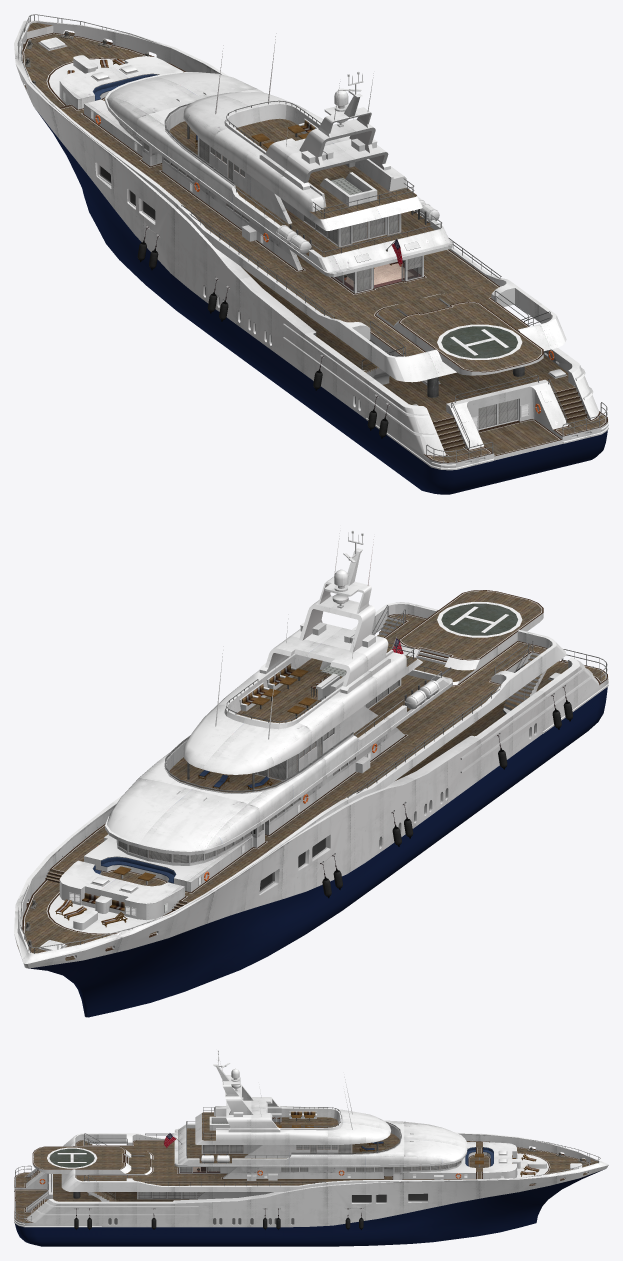
Rendered from yacht.glb.
3 views of the same model, one above another, from view 1: azimuth 30°, elevation 25°; view 2: azimuth 150°, elevation 25°; view 3: azimuth 270°, elevation 25° (orthographic). The views are drawn at different scales.
Visible parts, largest first — view 1: e2_cj_big_boat_1; view 2: e2_cj_big_boat_1; view 3: e2_cj_big_boat_1.
Part boxes in pixels (x1,y1,x2,y2): e2_cj_big_boat_1: (14,14,608,494); e2_cj_big_boat_1: (14,530,608,1017); e2_cj_big_boat_1: (14,1050,608,1246).
Bounding box in the file's own units: 0.4383 × 0.6301 × 1.98.
43 materials, 42 textured.
